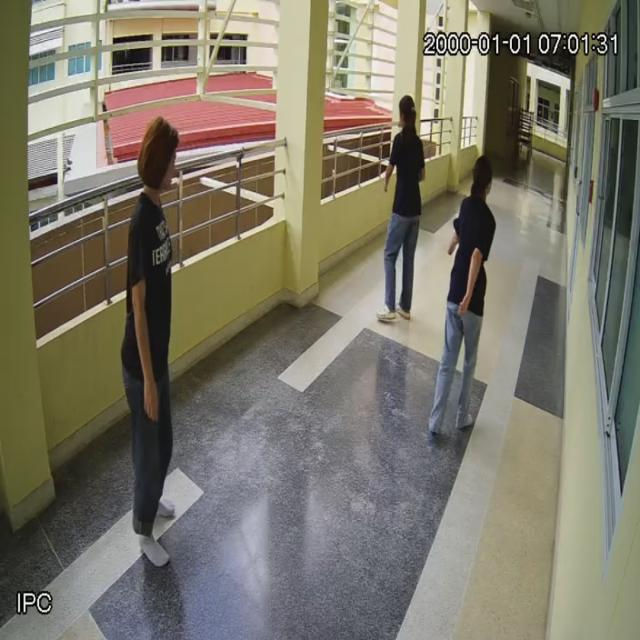normal: (124, 116, 182, 567), (432, 156, 498, 437), (378, 92, 425, 320)
